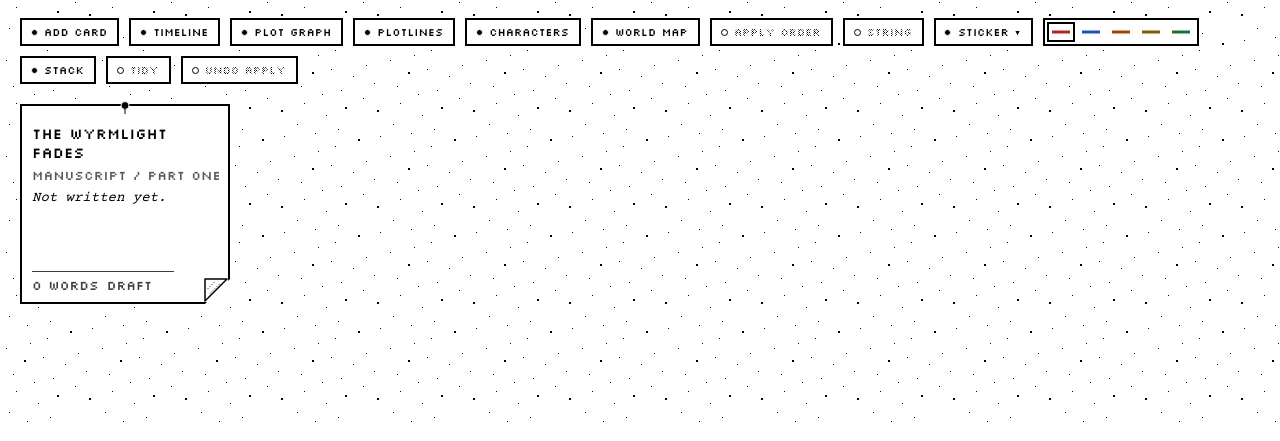
Test: adding a card › makes a new character in the story bible, already on the board
This screenshot has width=1280, height=441.
Click the button with class "board-tool" showing "Add Card" at (70, 32), box [20,18,119,46]
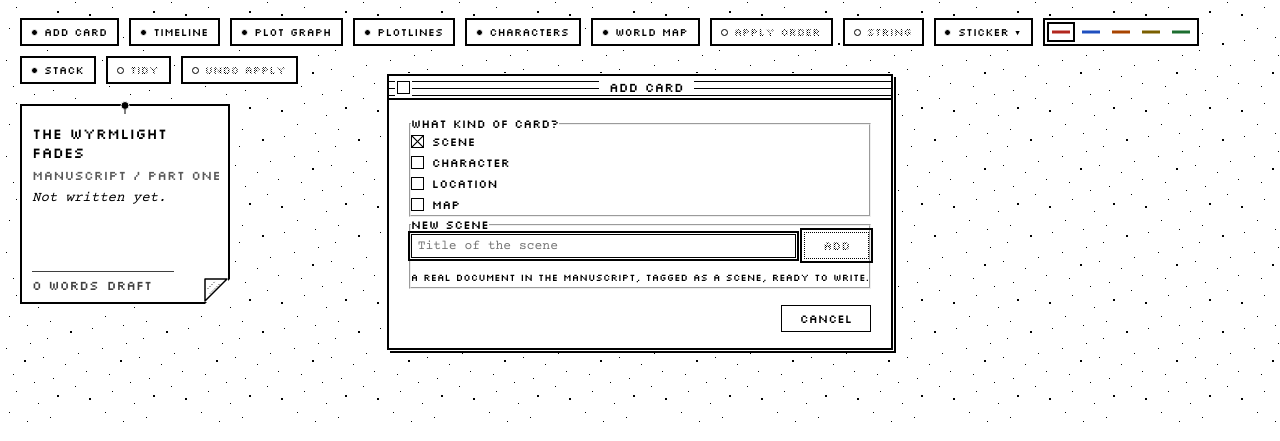
Expected: the element with class "dialog" is shown, [387,74,893,350]
Click the radio button labelled "Character" at (471, 162), box [411,152,869,173]
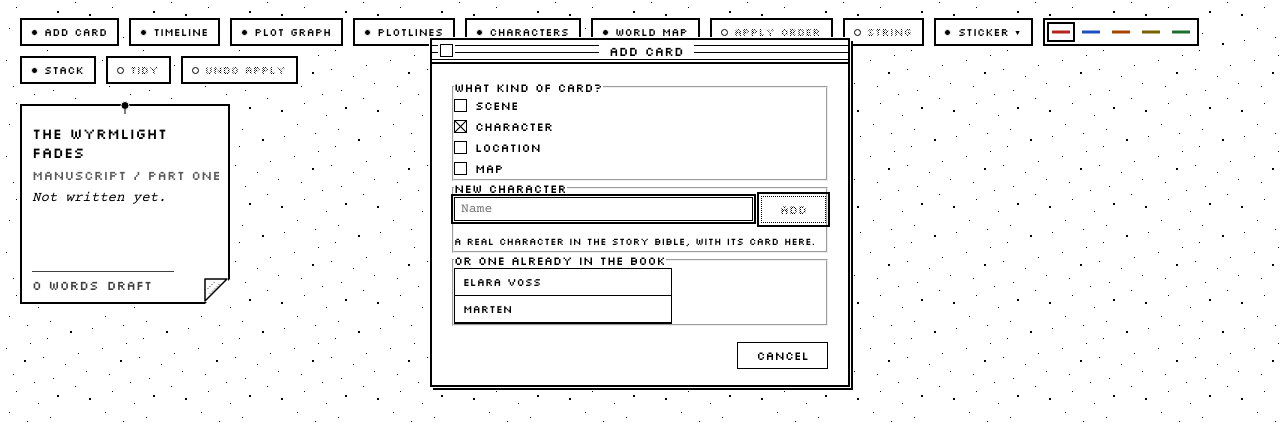
Type "Old Pell" into the field with placeholder "Name" at (604, 209), box [454,197,753,221]
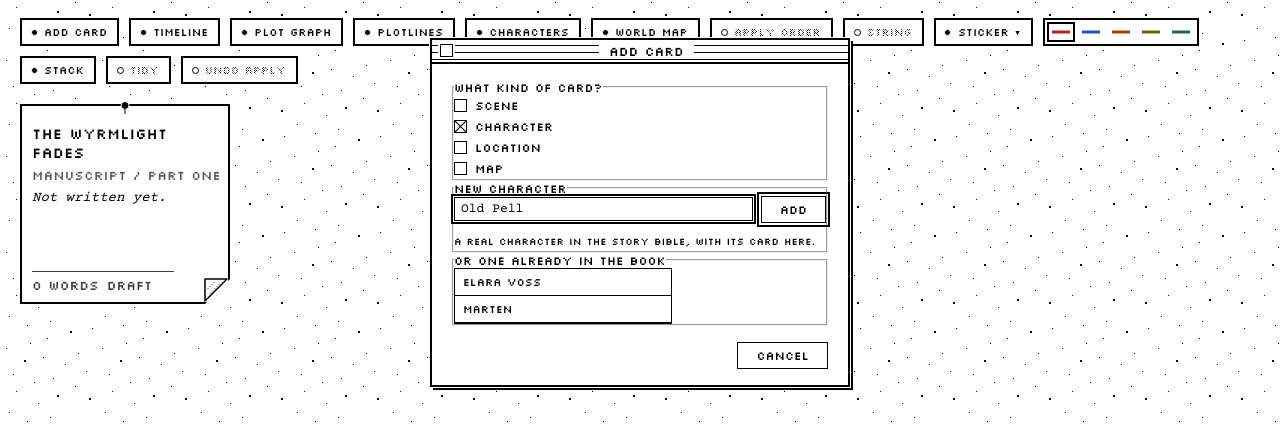
Click the button "Add" at (794, 209), box [761,196,826,222]
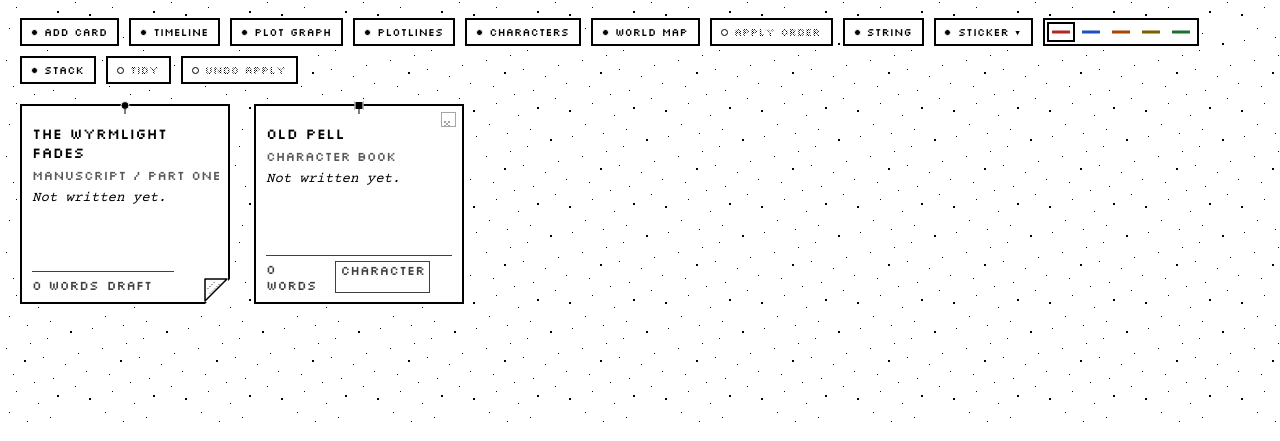
Expected: the element showing "× Old Pell Character Book Not written yet. 0 words character" is shown, [254,104,464,304]
